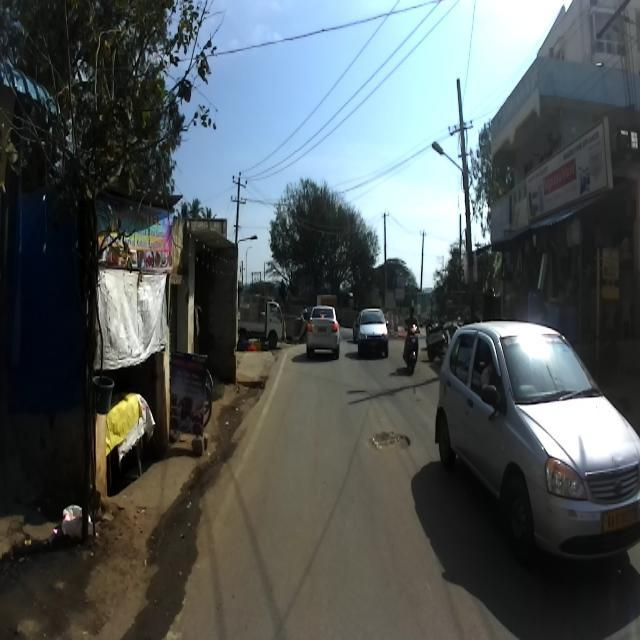pothole: (359, 406, 422, 471)
